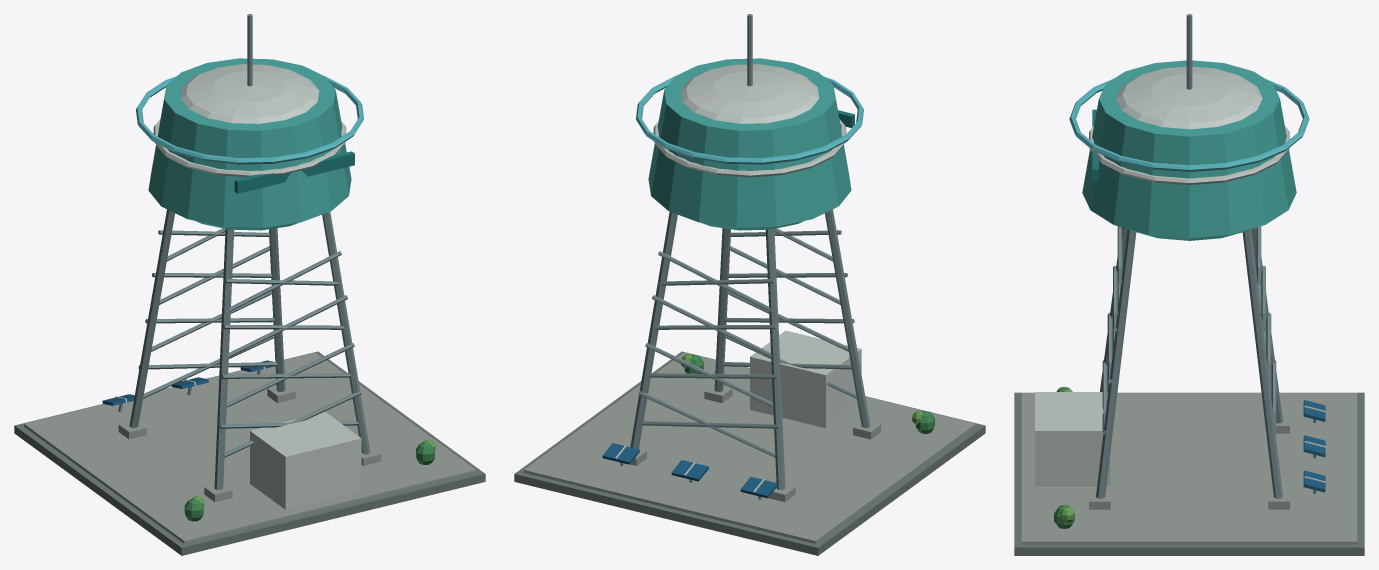
Rendered from water_lv4.glb.
3 views of the same model, side by side, from view 1: azimuth 30°, elevation 25°; view 2: azimuth 150°, elevation 25°; view 3: azimuth 270°, elevation 25° (orthographic). The views are drawn at different scales.
Parts seen in each view (by area): view 1: rough, metallic, glossy; view 2: rough, metallic, glossy; view 3: rough, metallic, glossy.
Boxes of the visible parts, left/top/right/bottom form: rough: left=14, top=58, right=485, bottom=555; metallic: left=102, top=14, right=370, bottom=489; glossy: left=136, top=76, right=363, bottom=164; rough: left=514, top=58, right=985, bottom=555; metallic: left=602, top=14, right=870, bottom=499; glossy: left=636, top=76, right=863, bottom=164; rough: left=1014, top=60, right=1364, bottom=555; metallic: left=1096, top=14, right=1325, bottom=498; glossy: left=1069, top=79, right=1309, bottom=171.
Bounding box in the file's own units: 8.8 × 12.25 × 8.4.
